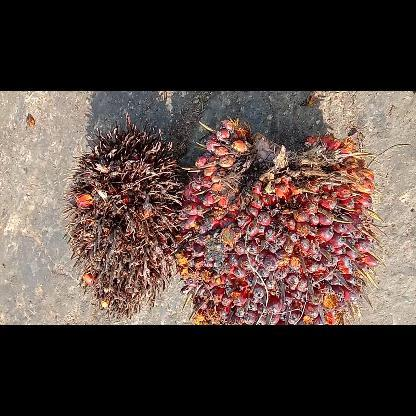TBS masak: (171, 120, 385, 324)
Terlalu masak: (62, 115, 184, 318)
